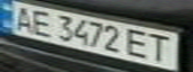2: (103, 22, 124, 55)
3: (51, 12, 75, 43)
4: (69, 17, 90, 46)
7: (84, 19, 106, 51)
A: (6, 2, 39, 34)
E: (124, 27, 154, 61), (27, 7, 57, 38)
T: (145, 32, 178, 63)
